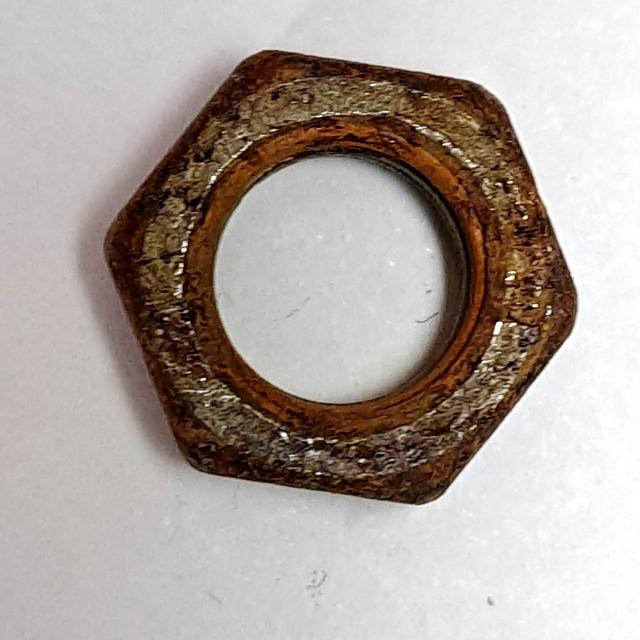Rust: (92, 38, 602, 520)
